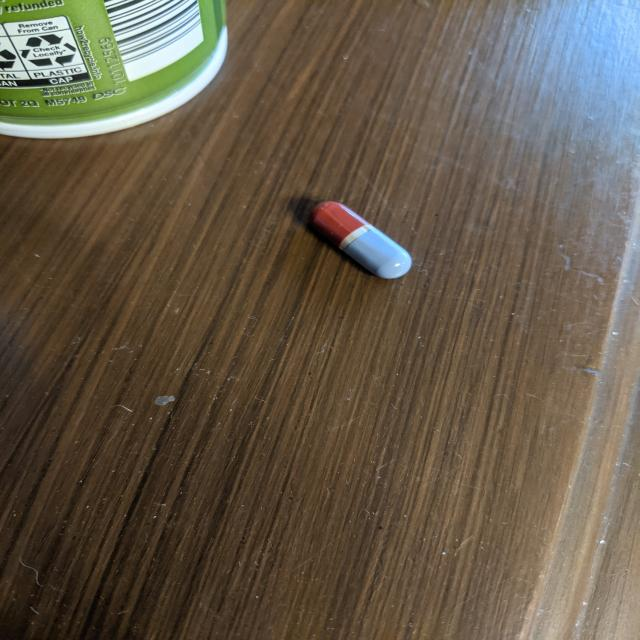non-organic waste: (306, 197, 415, 282)
